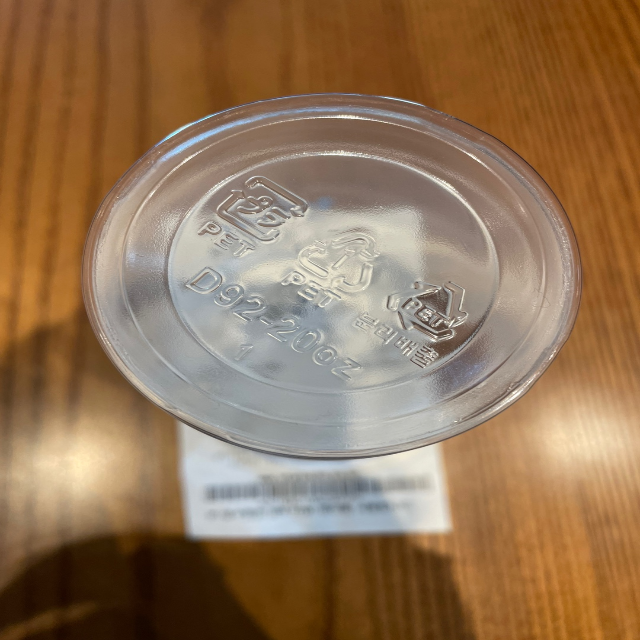pet: (350, 277, 472, 371), (193, 170, 308, 262), (279, 227, 383, 313)
